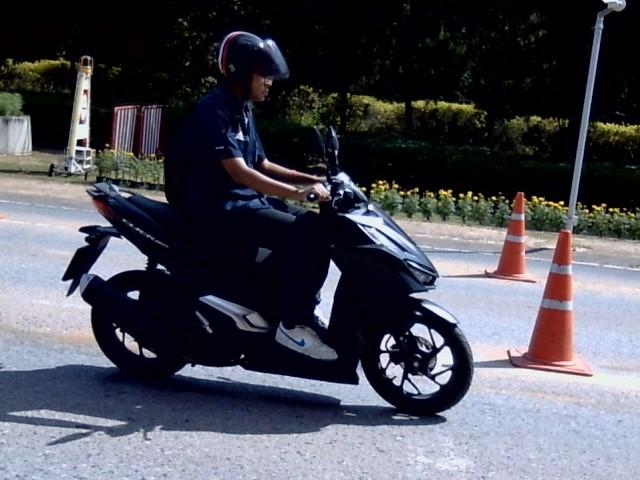helmet: (217, 31, 287, 101)
motor: (61, 128, 473, 415)
person: (167, 31, 336, 359)
